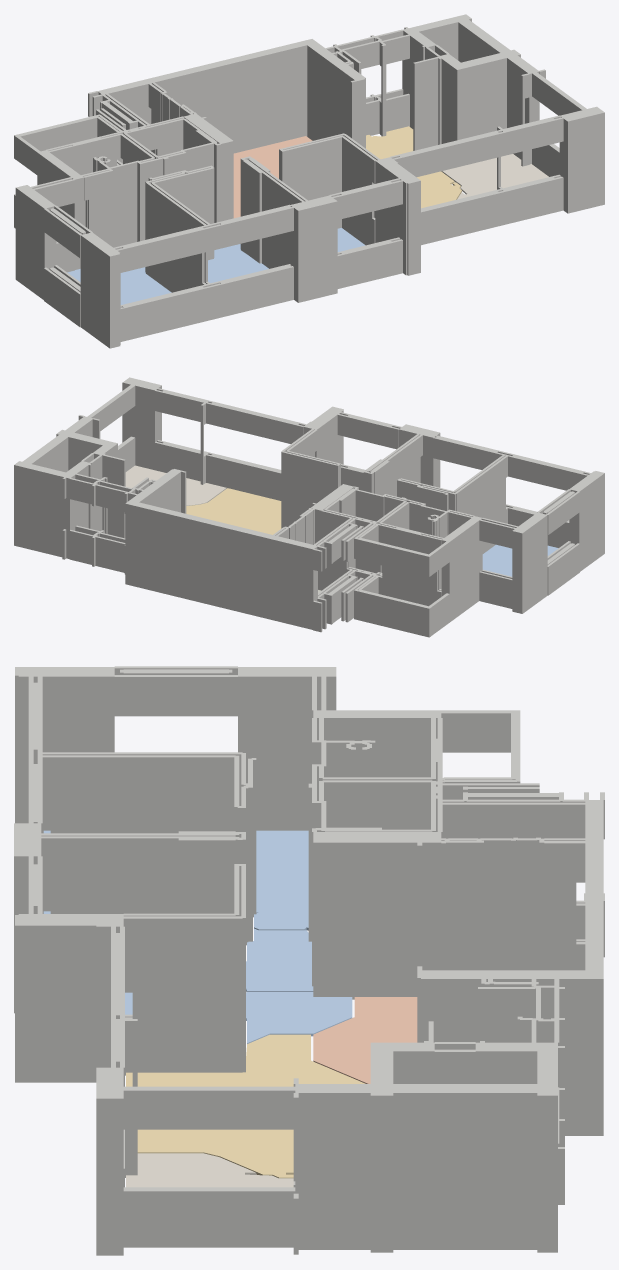
The picture shows the model from 3 angles, top to bottom: view 1: azimuth 30°, elevation 25°; view 2: azimuth 150°, elevation 25°; view 3: azimuth 270°, elevation 25°; orthographic projection. The views are drawn at different scales.
Visible parts, largest first — view 1: walls, room:other:5, room:living:7, room:kitchen:1, room:bedroom:3, room:bedroom:8; view 2: walls, room:living:7, room:other:5, room:bedroom:8; view 3: walls, room:living:7, room:kitchen:1, room:bedroom:8, room:bedroom:4, room:other:5, room:bedroom:3.
Part boxes in pixels (x1,y1,x2,y2): walls: [14, 14, 604, 348]; room:other:5: [441, 154, 548, 199]; room:living:7: [366, 126, 461, 208]; room:kitchen:1: [233, 136, 312, 218]; room:bedroom:3: [208, 244, 268, 283]; room:bedroom:8: [67, 267, 171, 304]; walls: [14, 377, 604, 637]; room:living:7: [186, 488, 281, 534]; room:other:5: [125, 465, 226, 505]; room:bedroom:8: [482, 544, 558, 576]; walls: [14, 666, 604, 1255]; room:living:7: [126, 1034, 365, 1178]; room:kitchen:1: [313, 997, 417, 1083]; room:bedroom:8: [43, 830, 308, 930]; room:bedroom:4: [125, 992, 352, 1043]; room:other:5: [126, 1153, 293, 1187]; room:bedroom:3: [43, 911, 313, 992].
Bounding box in the file's own units: 16.53 × 2.8 × 9.55.
